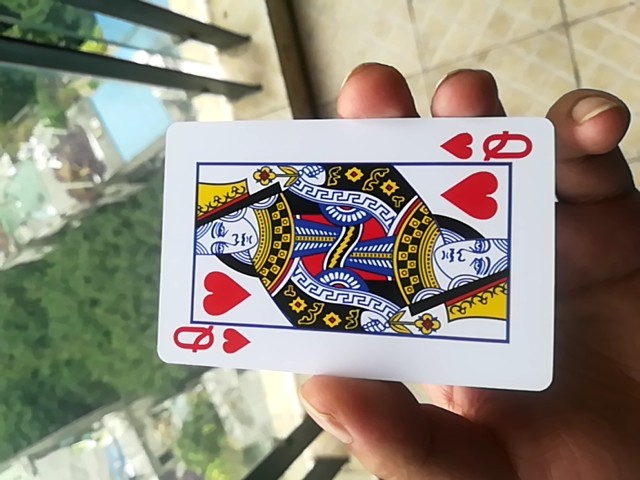hx q: (153, 111, 560, 395)
